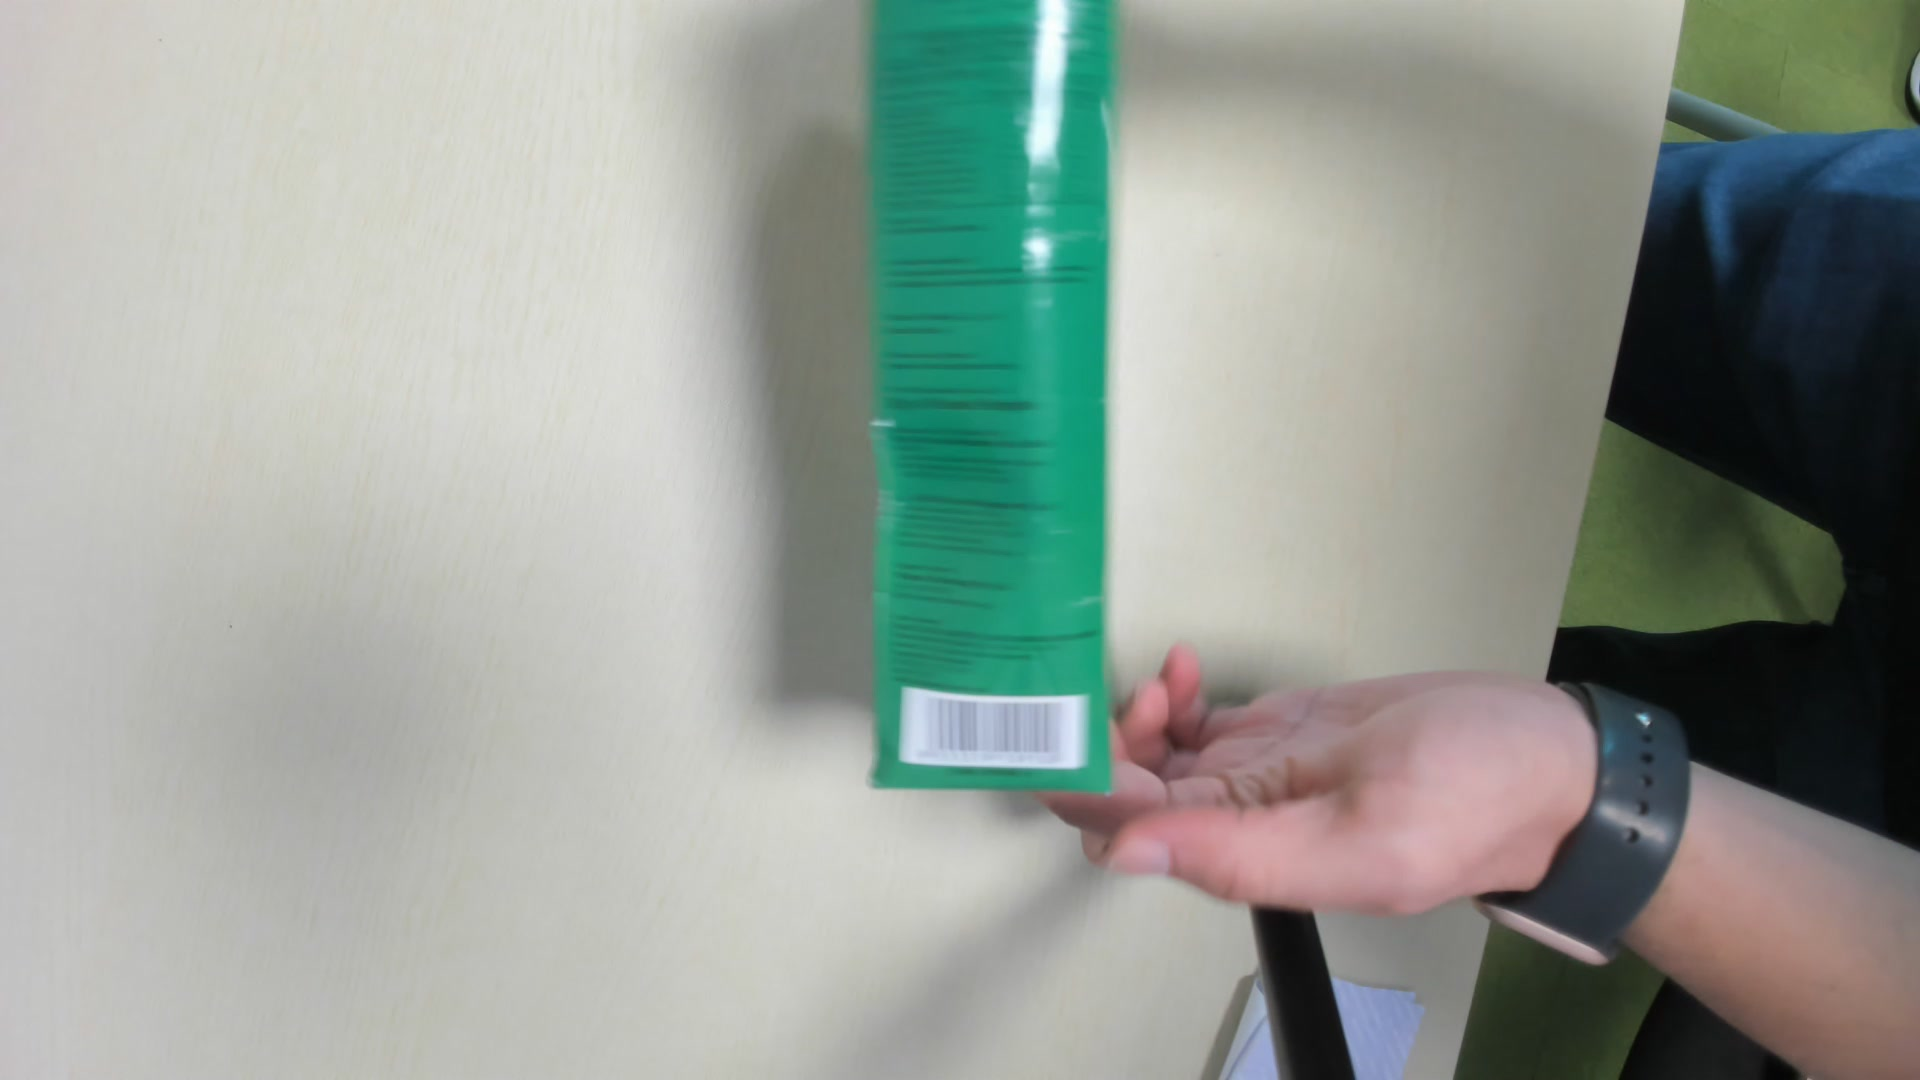PotatoChipsKeropok_100-200g_Halal_Healthy: (858, 7, 1117, 819)
